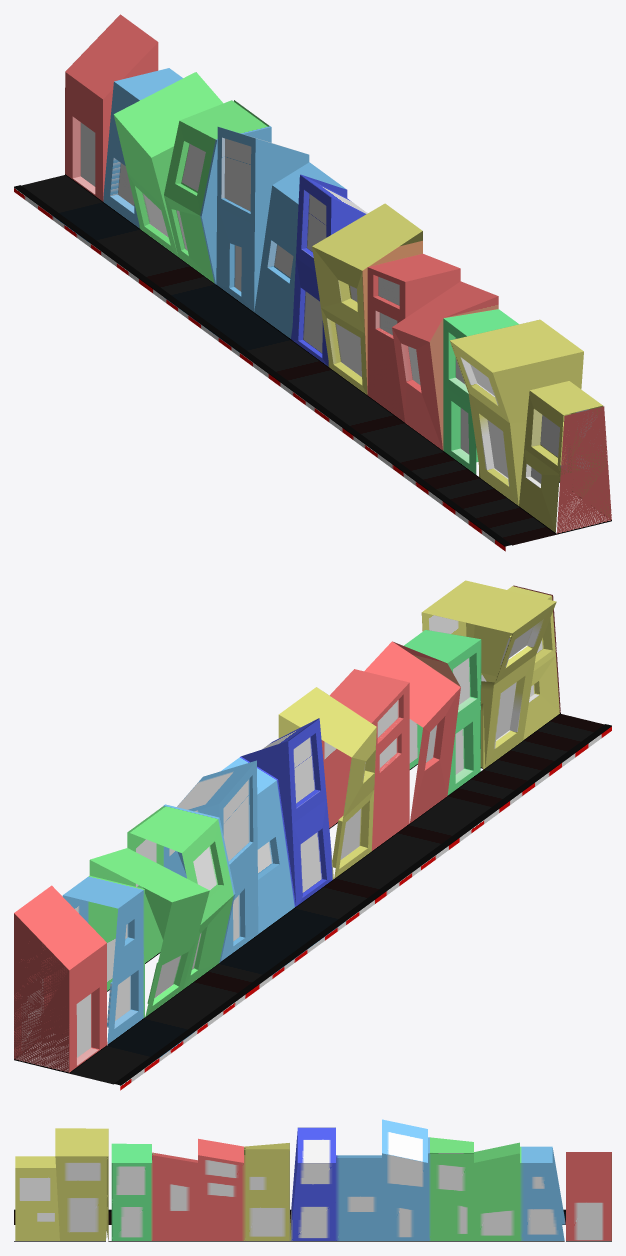
File: GGJ2015 Side Buildings1.fbx
3 renders of one model, top to bottom at view 1: azimuth 30°, elevation 25°; view 2: azimuth 150°, elevation 25°; view 3: azimuth 270°, elevation 25°, orthographic. The views are drawn at different scales.
Visible parts, largest first — view 1: Plane; view 2: Plane; view 3: Plane.
Part boxes in pixels (bbox=[...]): Plane: bbox=[14, 14, 611, 551]; Plane: bbox=[14, 580, 611, 1090]; Plane: bbox=[14, 1119, 611, 1241].
Size of the model in its own units: 2.64 by 4.02 by 20.
